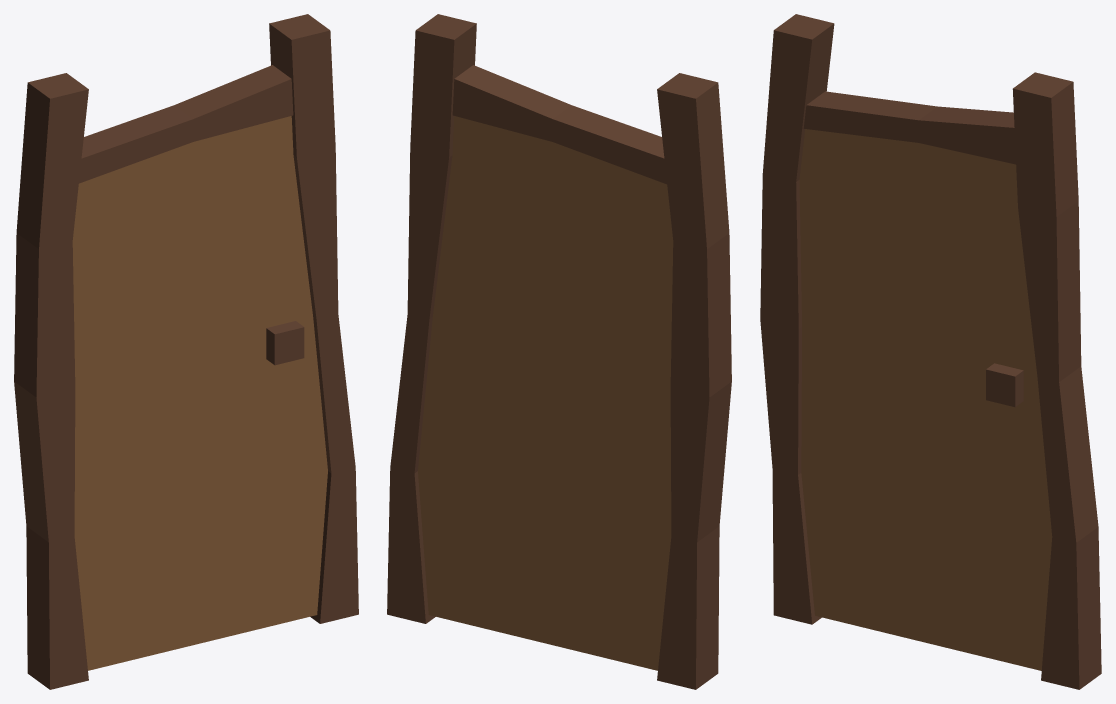
The model's file is House01_Door.fbx.
3 renders of one model, left to right at view 1: azimuth 30°, elevation 25°; view 2: azimuth 150°, elevation 25°; view 3: azimuth 330°, elevation 25°, orthographic.
Visible parts, largest first — view 1: house001_Door; view 2: house001_Door; view 3: house001_Door.
Part boxes in pixels (<box>): house001_Door: <box>14,14,358,689</box>; house001_Door: <box>387,14,731,689</box>; house001_Door: <box>760,14,1101,689</box>.
Size of what is drawn, in the model's own units: 239 by 418 by 35.45.
